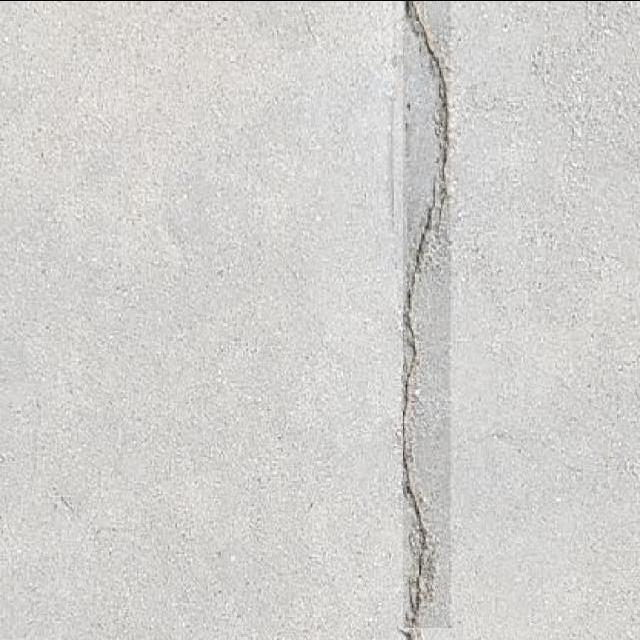Crack: (390, 0, 455, 639)
